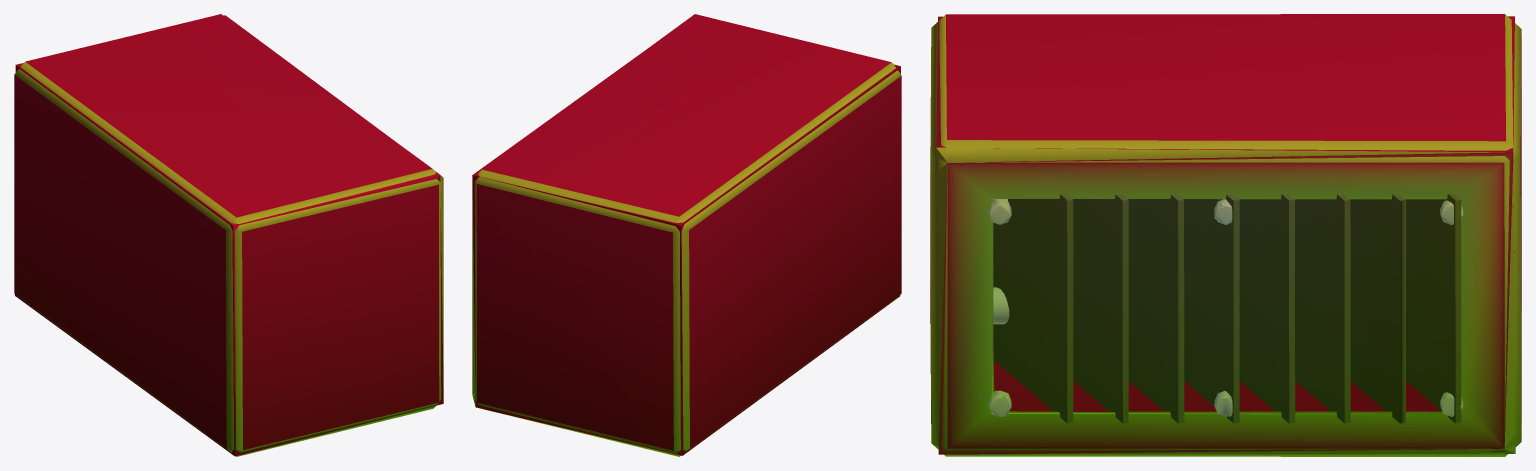
Rendered from RCLModule_surge_tank_ion_thruster_titanium_grate_sponsons_LODs.fbx.
3 views of the same model, side by side, from view 1: azimuth 30°, elevation 25°; view 2: azimuth 150°, elevation 25°; view 3: azimuth 270°, elevation 25° (orthographic). The views are drawn at different scales.
Visible parts, largest first — view 1: LOD1_RCLModule_surge_tank_ion_thruster_titanium_grate_sponso, LOD2_RCLModule_surge_tank_ion_thruster_titanium_grate_sponso; view 2: LOD1_RCLModule_surge_tank_ion_thruster_titanium_grate_sponso, LOD2_RCLModule_surge_tank_ion_thruster_titanium_grate_sponso; view 3: LOD1_RCLModule_surge_tank_ion_thruster_titanium_grate_sponso (×3), LOD2_RCLModule_surge_tank_ion_thruster_titanium_grate_sponso.
Boxes of the visible parts, <box> form: LOD1_RCLModule_surge_tank_ion_thruster_titanium_grate_sponso: <box>14,14,443,456</box>; LOD2_RCLModule_surge_tank_ion_thruster_titanium_grate_sponso: <box>15,15,443,456</box>; LOD1_RCLModule_surge_tank_ion_thruster_titanium_grate_sponso: <box>472,14,901,456</box>; LOD2_RCLModule_surge_tank_ion_thruster_titanium_grate_sponso: <box>472,57,900,455</box>; LOD1_RCLModule_surge_tank_ion_thruster_titanium_grate_sponso (×3): <box>930,14,1521,456</box>; LOD2_RCLModule_surge_tank_ion_thruster_titanium_grate_sponso: <box>936,16,1515,454</box>.
Size of the model in its own units: 37.41 by 37.66 by 63.66.
